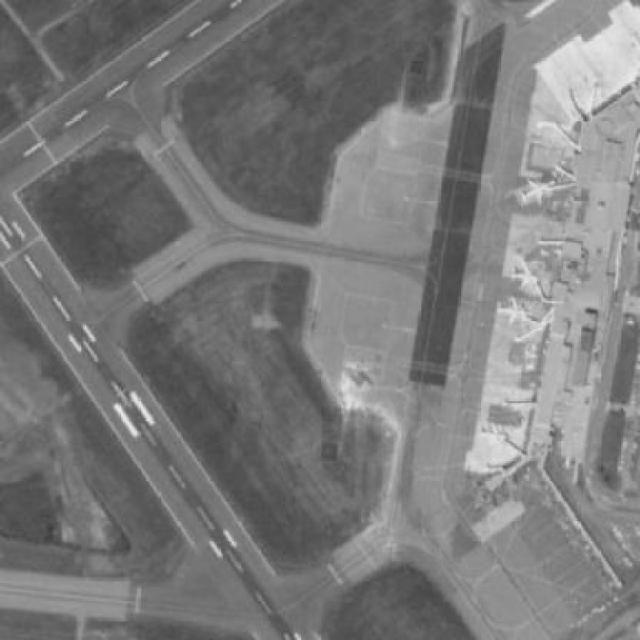airplane: (509, 260, 544, 294), (496, 296, 533, 327), (480, 421, 511, 449), (521, 178, 549, 207)
